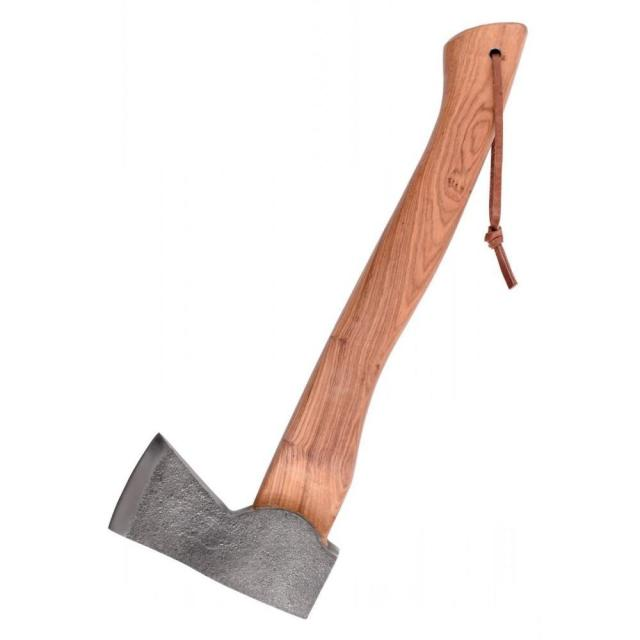Kapak: (77, 24, 581, 624)
